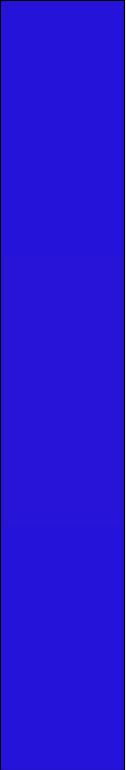safe: (6, 10, 120, 762)
